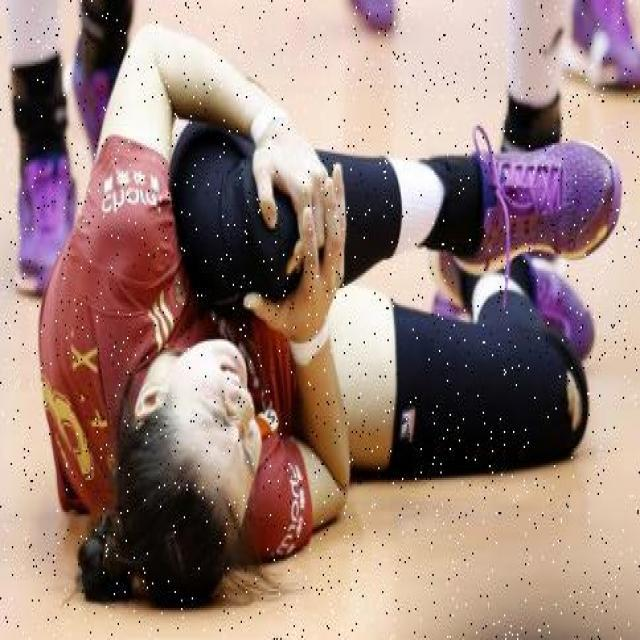fall: (47, 109, 600, 602)
